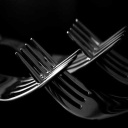Fork: (11, 29, 128, 125)
